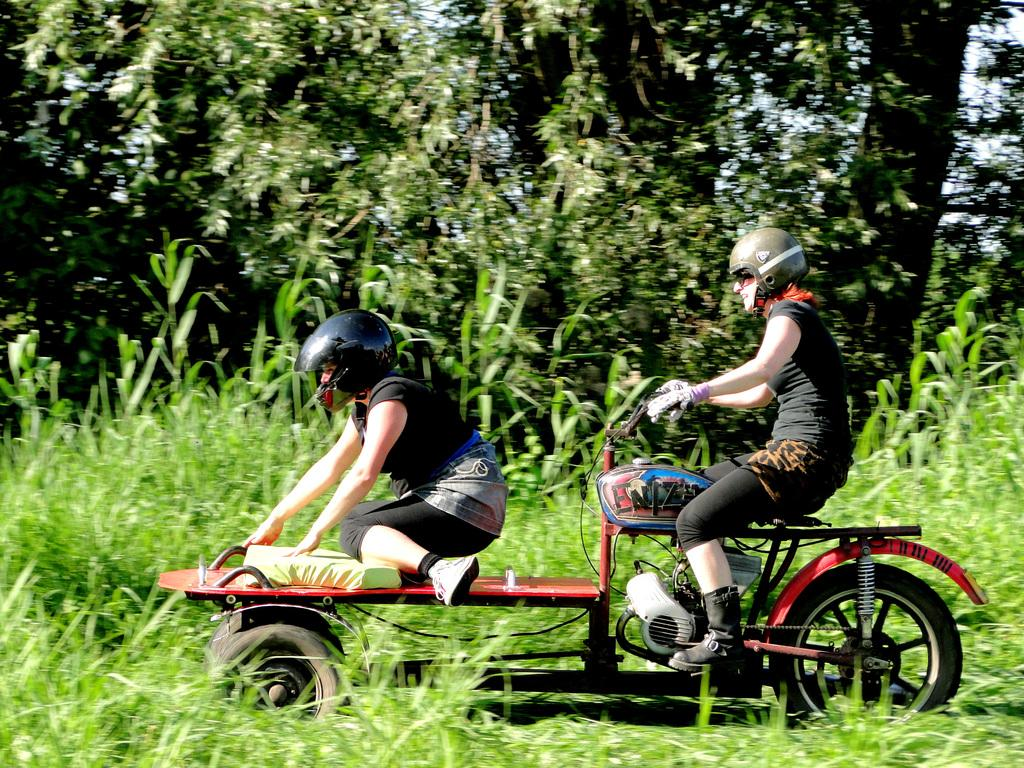helmet: (293, 308, 399, 414), (729, 227, 807, 311)
